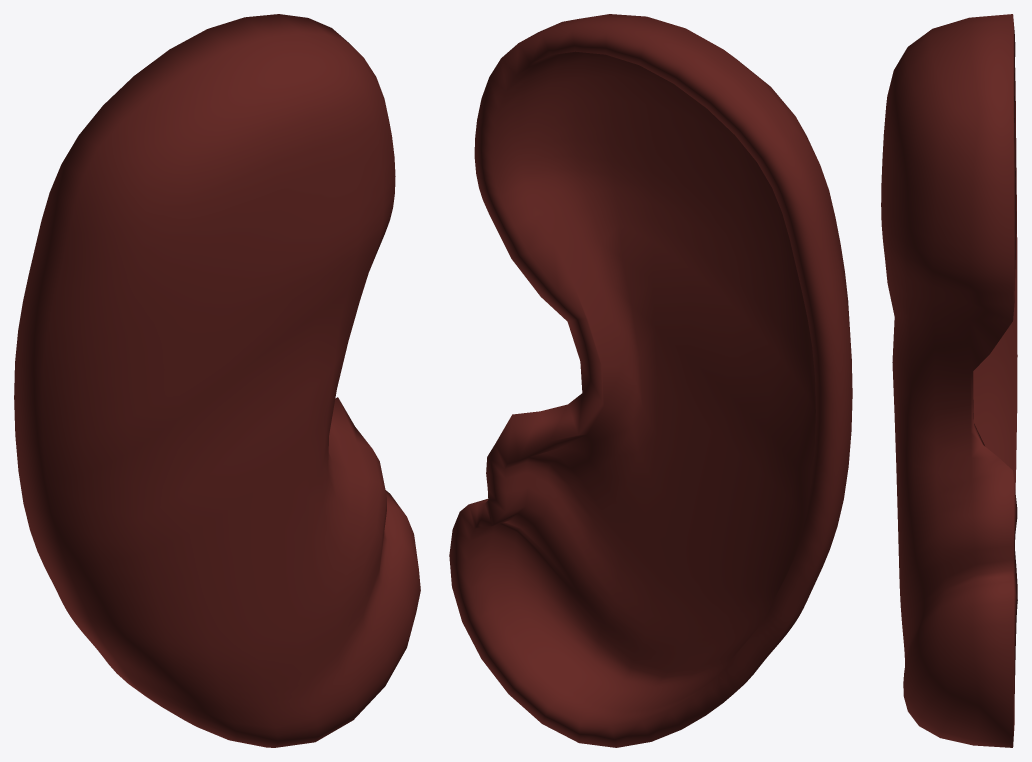
Rendered from Cortex.fbx.
3 renders of one model, left to right at view 1: azimuth 30°, elevation 25°; view 2: azimuth 150°, elevation 25°; view 3: azimuth 270°, elevation 25°, orthographic. The views are drawn at different scales.
Visible parts, largest first — view 1: Cortex; view 2: Cortex; view 3: Cortex.
Boxes of the visible parts, x1,y1,x2,y2 form: Cortex: (14, 14, 420, 747); Cortex: (449, 14, 852, 747); Cortex: (881, 14, 1017, 747).
Bounding box in the file's own units: 190 × 335 × 60.05.
